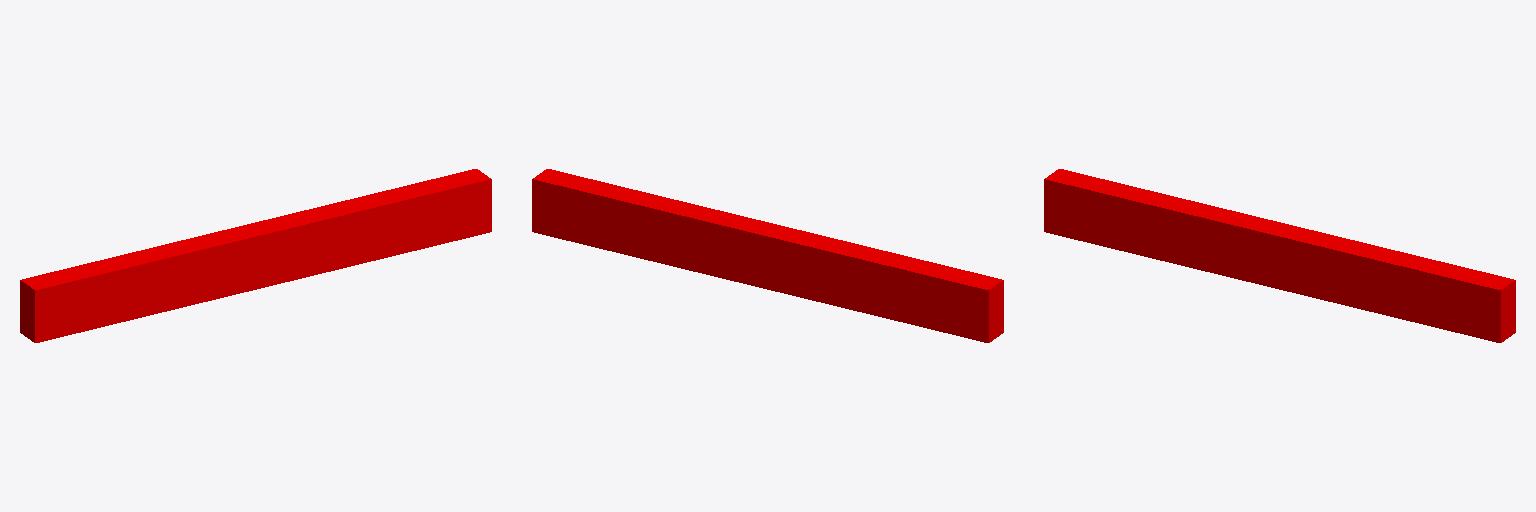
URDF robot description (wall10):
<?xml version="1.0"?>
<robot name="wall10">
	<link name="base">
	<inertial>
        	 <origin xyz="0 0 0" rpy="0 0 0"/>
        	 <mass value="3"/>
        	 <inertia ixx="0.000683333"  ixy="0"  ixz="0" iyy="0.000683333" iyz="0" izz="0.000683333" />
       </inertial>
		<visual>
			<origin xyz="0 0 0" rpy="0 0 0" />
			<geometry>
				<box size="0.18 0.01 0.02" />
			</geometry>
			<material>
				<color rgba="1 0 0 1" />
			</material>
		</visual>
		<collision>
			<origin xyz="0 0 0" rpy="0 0 0" />
			<material>
				<color rgba="1 0 0 1" />
			</material>
			<geometry>
				<box size="0.18 0.01 0.02" />
			</geometry>
			
		</collision>
	</link>
</robot>

--- What the picture shows (computed from the rendered views, not written in the file) ---
Views: 3 orthographic renders of the robot side by side, from view 1: azimuth 30°, elevation 25°; view 2: azimuth 150°, elevation 25°; view 3: azimuth 330°, elevation 25°.
Model wall10 with 1 links and 0 joints (none), rooted at base, posed all joints at 0.
Links seen in each view (by area): view 1: base; view 2: base; view 3: base.
Link boxes in pixels (<box>): base: <box>20,169,491,342</box>; base: <box>532,169,1003,342</box>; base: <box>1044,169,1515,342</box>.
Size in the robot's own frame: 0.18 by 0.01 by 0.02 metres.
Geometry: primitives only (box / cylinder / sphere), no mesh files.
